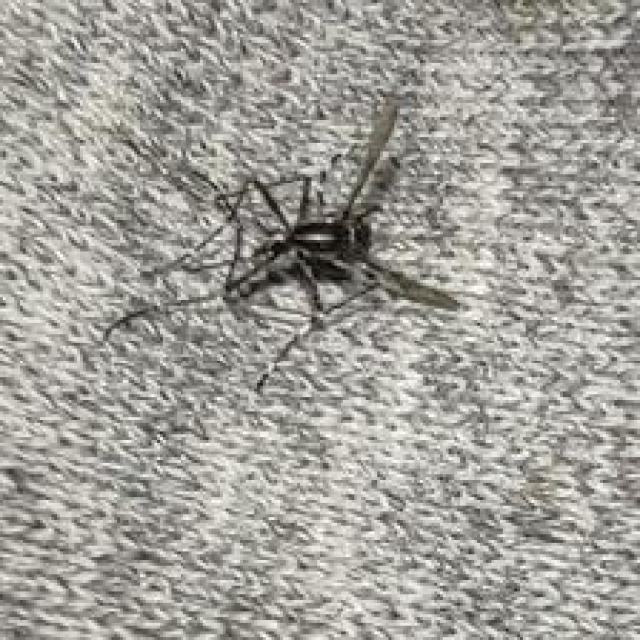Aedes albopictus: (102, 100, 464, 397)
